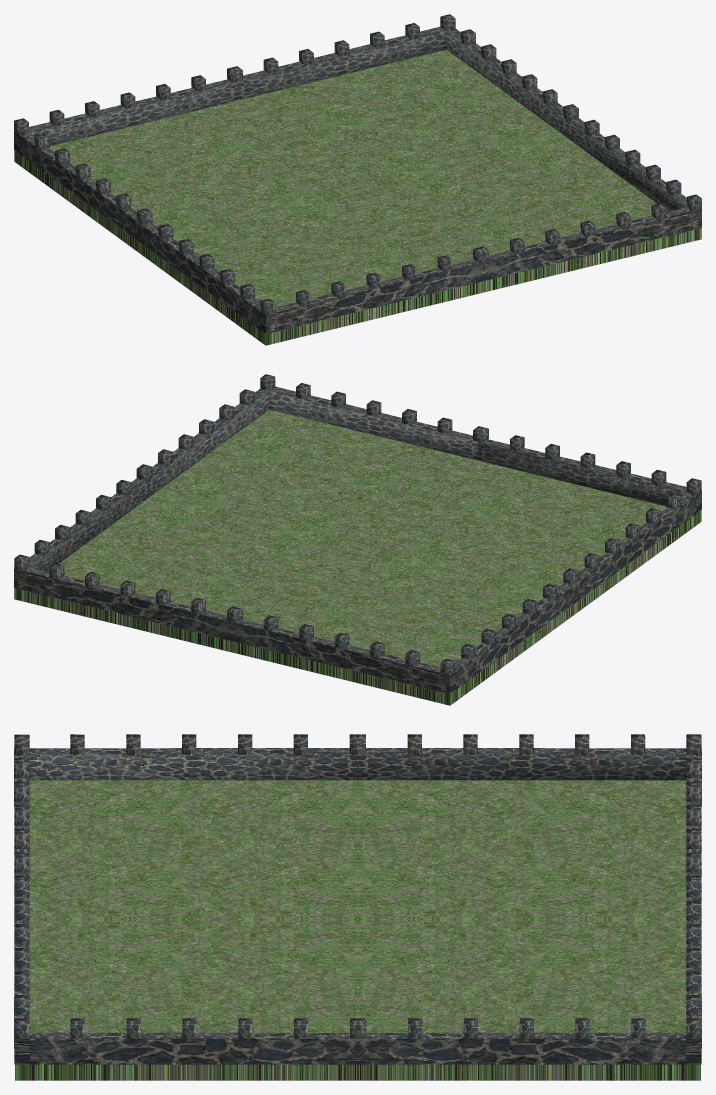
The model's file is park_tile_closed.glb.
3 views of the same model, one above another, from view 1: azimuth 30°, elevation 25°; view 2: azimuth 150°, elevation 25°; view 3: azimuth 270°, elevation 25° (orthographic). The views are drawn at different scales.
Visible parts, largest first — view 1: ground.002, wall.002, wall_nubs.004, wall_nubs.005; view 2: ground.002, wall.002, wall_nubs.004, wall_nubs.005; view 3: ground.002, wall.002, wall_nubs.005, wall_nubs.004.
Boxes of the visible parts, left/top/right/bottom form: ground.002: left=14, top=49, right=701, bottom=345; wall.002: left=14, top=26, right=701, bottom=333; wall_nubs.004: left=14, top=14, right=701, bottom=314; wall_nubs.005: left=14, top=14, right=701, bottom=314; ground.002: left=14, top=409, right=701, bottom=705; wall.002: left=14, top=386, right=701, bottom=693; wall_nubs.004: left=14, top=374, right=701, bottom=674; wall_nubs.005: left=14, top=374, right=701, bottom=674; ground.002: left=15, top=780, right=700, bottom=1080; wall.002: left=14, top=748, right=701, bottom=1064; wall_nubs.005: left=14, top=734, right=701, bottom=1038; wall_nubs.004: left=14, top=734, right=701, bottom=1038.
Bounding box in the file's own units: 40.09 × 3.59 × 40.05.
Materials: 2 (2 with a texture image).
